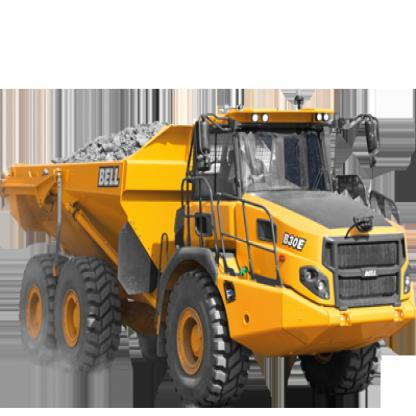dump_truck: (8, 101, 415, 401)
